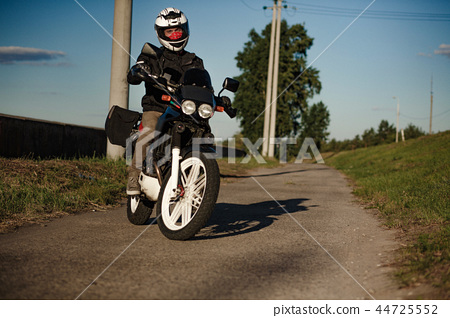helmet: (152, 6, 194, 47)
